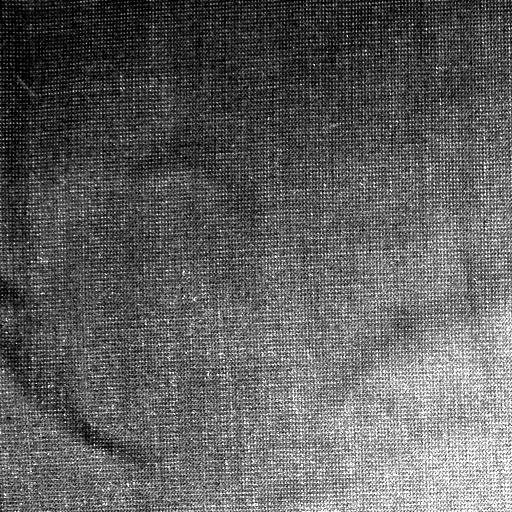fabric_perfect: (0, 0, 508, 512)
